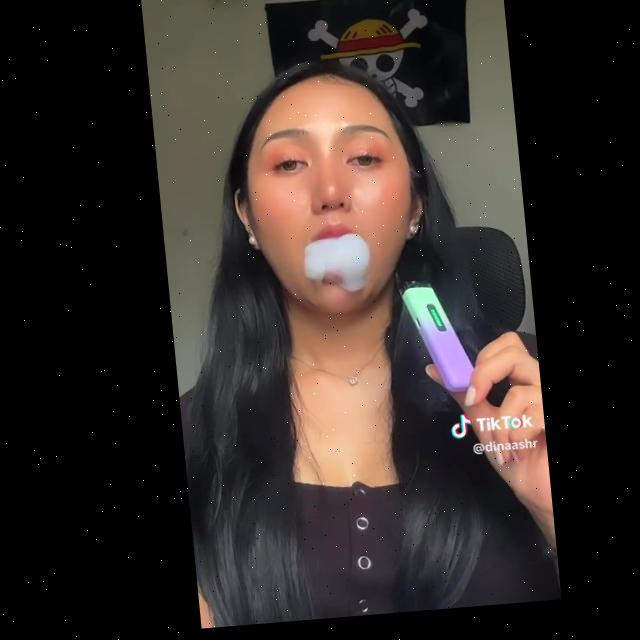vape: (389, 266, 469, 402)
